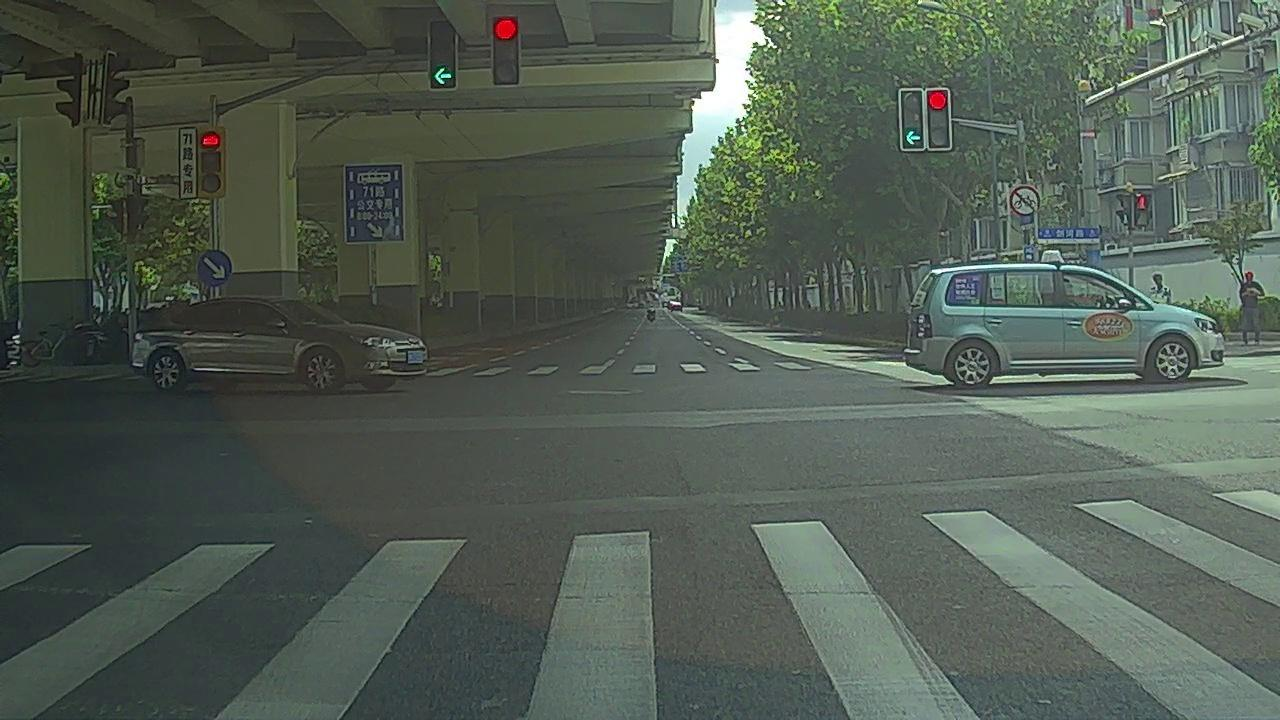traffic_light: (488, 18, 519, 88), (430, 20, 457, 91), (927, 85, 952, 148), (901, 90, 925, 149)
